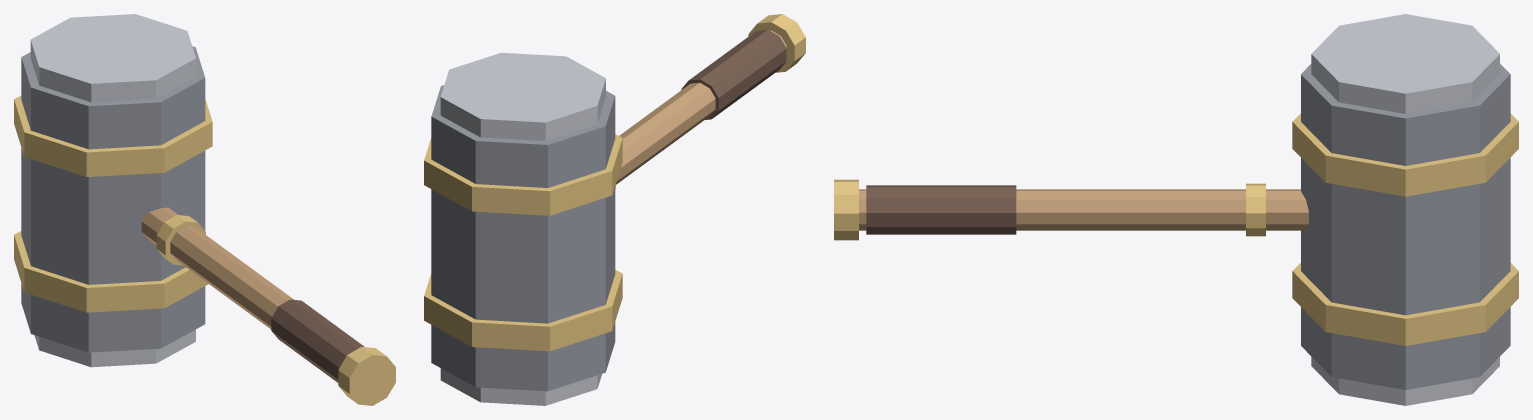
The model's file is hammer.glb.
3 renders of one model, left to right at view 1: azimuth 30°, elevation 25°; view 2: azimuth 150°, elevation 25°; view 3: azimuth 270°, elevation 25°, orthographic. The views are drawn at different scales.
Visible parts, largest first — view 1: Head, Handle; view 2: Head, Handle; view 3: Head, Handle.
Boxes of the visible parts, box(x1,y1,x2,y2) form: Head: box(14, 14, 212, 367); Handle: box(141, 207, 395, 405); Head: box(424, 52, 622, 405); Handle: box(615, 14, 805, 188); Head: box(1292, 14, 1518, 405); Handle: box(834, 179, 1308, 240).
Size of the model in its own units: 0.4536 by 0.69 by 1.37.
